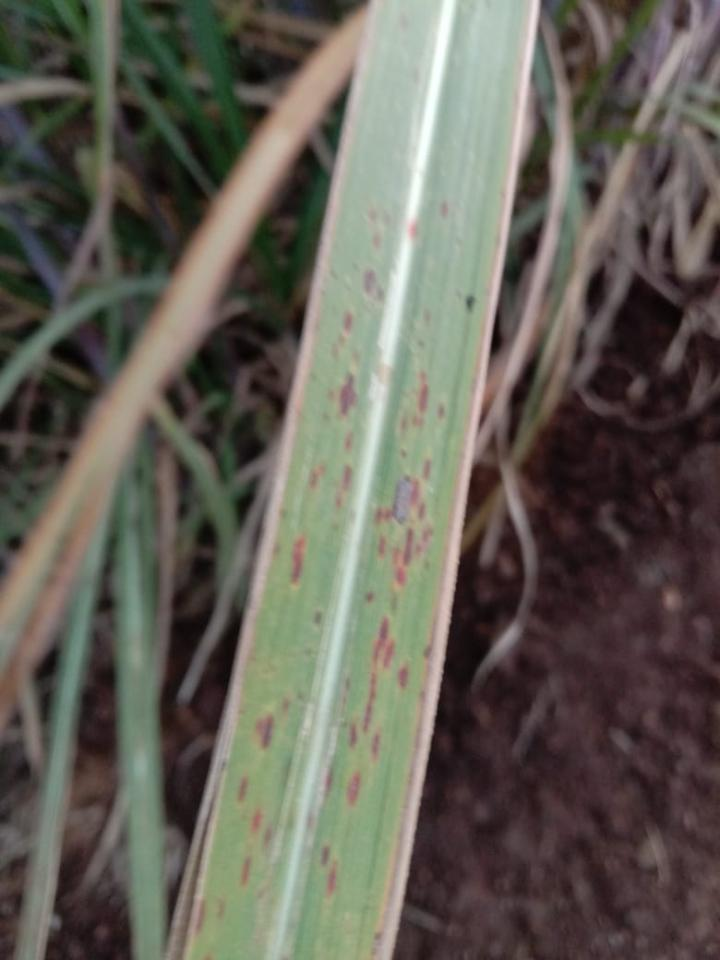Rust: (305, 356, 453, 906), (286, 196, 399, 597), (187, 684, 301, 942)
